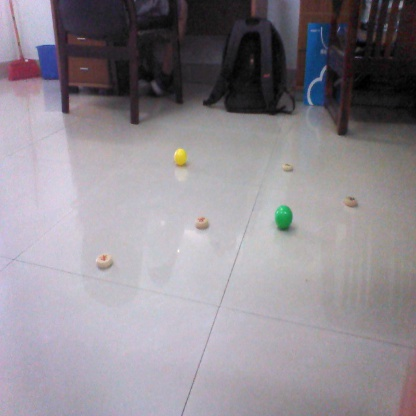ball: (270, 204, 295, 227), (171, 145, 191, 167)
chess: (93, 249, 114, 268), (193, 215, 213, 233), (343, 193, 360, 208), (280, 162, 300, 174)
